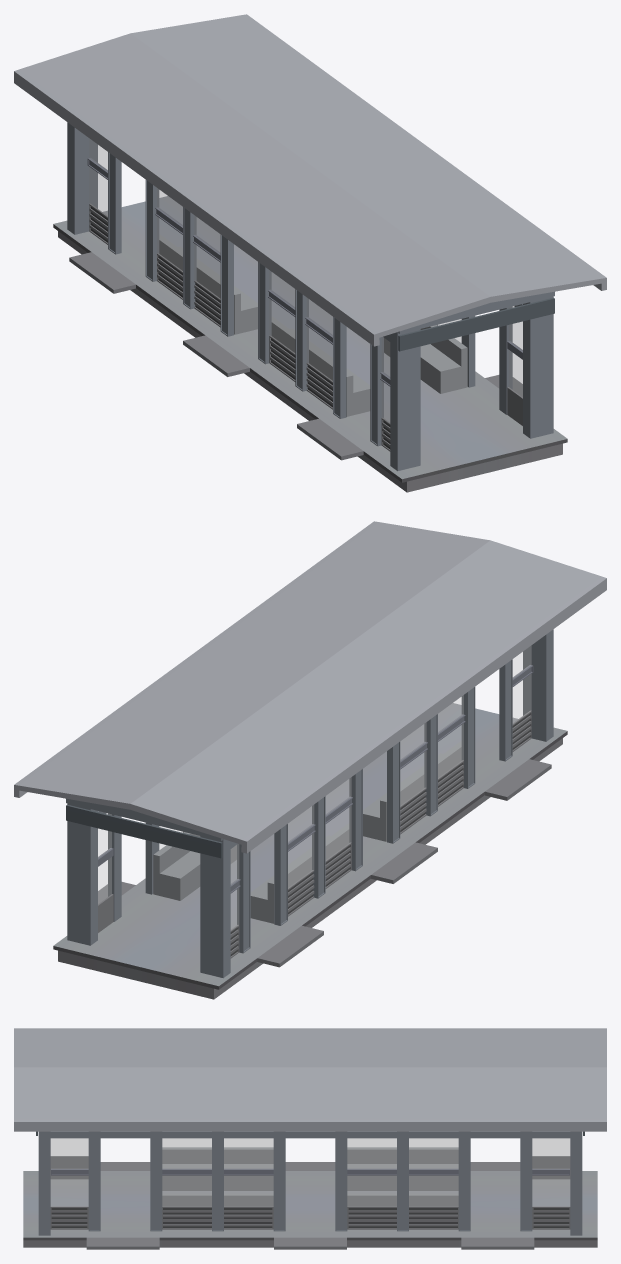
The model's file is brt-station.glb.
3 renders of one model, top to bottom at view 1: azimuth 30°, elevation 25°; view 2: azimuth 150°, elevation 25°; view 3: azimuth 270°, elevation 25°, orthographic. The views are drawn at different scales.
Parts seen in each view (by area): view 1: brt-station; view 2: brt-station; view 3: brt-station.
Boxes of the visible parts, bbox=[...] form: brt-station: bbox=[14, 14, 606, 492]; brt-station: bbox=[14, 521, 606, 999]; brt-station: bbox=[14, 1028, 606, 1249].
Size of the model in its own units: 5.98 by 4.43 by 16.
Materials: 2 (1 with a texture image).
